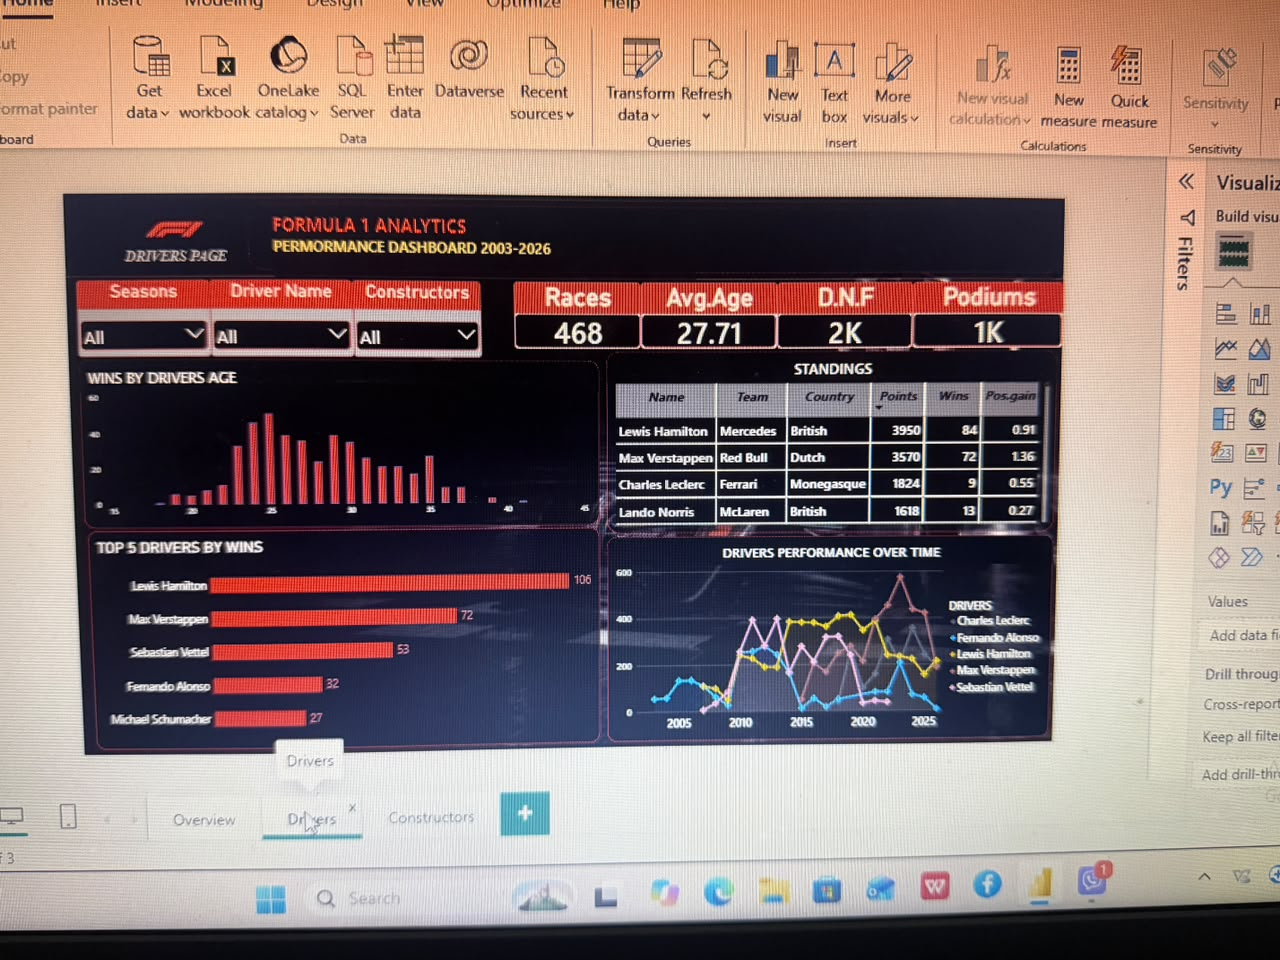

What the dashboard file says about the page in this screenshot:
{"tool":"powerbi","page":{"name":"Drivers","canvas":[1920,1080],"ordinal":1},"visuals":[{"type":"textbox","box":[0,7.5,1920,150],"z":0},{"type":"cardVisual","title":"Avg.Age","fields":{"Data":["Avg(f1_main.drivers age)"]},"box":[1090,162.5,267.5,127.5],"z":1000},{"type":"cardVisual","title":"Races","fields":{"Data":["Count(f1_main.race_date)"]},"box":[845,162.5,245,127.5],"z":2000},{"type":"cardVisual","title":"Podiums","fields":{"Data":["f1_main.Total Podiums"]},"box":[1622.5,162.5,297.5,127.5],"z":3000},{"type":"image","box":[25.9,0,369.4,164.2],"z":4000},{"type":"cardVisual","title":" D.N.F","fields":{"Data":["Sum(f1_main.is_dnf)"]},"box":[1357.5,162.5,265,127.5],"z":5000},{"type":"slicer","title":"Seasons","fields":{"Values":["f1_main.season"]},"box":[20,162.5,252.7,144.7],"z":6000},{"type":"slicer","title":"Constructors","fields":{"Values":["f1_main.constructor_name"]},"box":[540,162.5,241.9,144.7],"z":7000},{"type":"textbox","box":[58.3,101.5,306.7,62.6],"z":8000},{"type":"slicer","title":"Driver Name","fields":{"Values":["f1_main.driver_name"]},"box":[272.5,162.5,267.8,144.7],"z":9000},{"type":"clusteredBarChart","title":"TOP 5 DRIVERS BY WINS ","fields":{"Category":["f1_main.driver_name"],"Y":["f1_main.Total Wins"]},"box":[25,640,982.5,430],"z":10000},{"type":"tableEx","title":"STANDINGS","fields":{"Values":["f1_main.driver_name","f1_main.constructor_name","f1_main.driver_nationality","Sum(f1_main.points)","Sum(f1_main.is_win)","f1_main.Avg Positions Gained"]},"box":[1022.5,295,890,357.5],"z":11000},{"type":"clusteredColumnChart","title":"WINS BY DRIVERS AGE","fields":{"Category":["f1_main.drivers age"],"Y":["Sum(f1_main.is_win)"]},"box":[20,312.5,987.5,322.5],"z":12000},{"type":"shape","box":[347.5,20,1572.5,125],"z":13000},{"type":"textbox","box":[395,37.5,802.5,122.5],"z":14000},{"type":"lineChart","title":"DRIVERS PERFORMANCE OVER TIME","fields":{"Category":["f1_main.season"],"Series":["f1_main.driver_name"],"Y":["Sum(f1_main.points)"]},"box":[1022.2,655.6,891.1,417.8],"z":15000},{"type":"pageNavigator","title":"VIEWING..","box":[1197.8,37.8,668.9,102.2],"z":15001}]}

Visuals, with their boxes on the page's 1920x1080 design canvas (x1, y1, x2, y2). These are canvas units, not pixel positions in the 1280x960 screenshot, which may show the page scaled, cropped or inside an application window:
textbox: l=0, t=8, r=1920, b=158
"Avg.Age" cardVisual: l=1090, t=162, r=1358, b=290
"Races" cardVisual: l=845, t=162, r=1090, b=290
"Podiums" cardVisual: l=1622, t=162, r=1920, b=290
image: l=26, t=0, r=395, b=164
" D.N.F" cardVisual: l=1358, t=162, r=1622, b=290
"Seasons" slicer: l=20, t=162, r=273, b=307
"Constructors" slicer: l=540, t=162, r=782, b=307
textbox: l=58, t=102, r=365, b=164
"Driver Name" slicer: l=272, t=162, r=540, b=307
"TOP 5 DRIVERS BY WINS " clusteredBarChart: l=25, t=640, r=1008, b=1070
"STANDINGS" tableEx: l=1022, t=295, r=1912, b=652
"WINS BY DRIVERS AGE" clusteredColumnChart: l=20, t=312, r=1008, b=635
shape: l=348, t=20, r=1920, b=145
textbox: l=395, t=38, r=1198, b=160
"DRIVERS PERFORMANCE OVER TIME" lineChart: l=1022, t=656, r=1913, b=1073
"VIEWING.." pageNavigator: l=1198, t=38, r=1867, b=140
